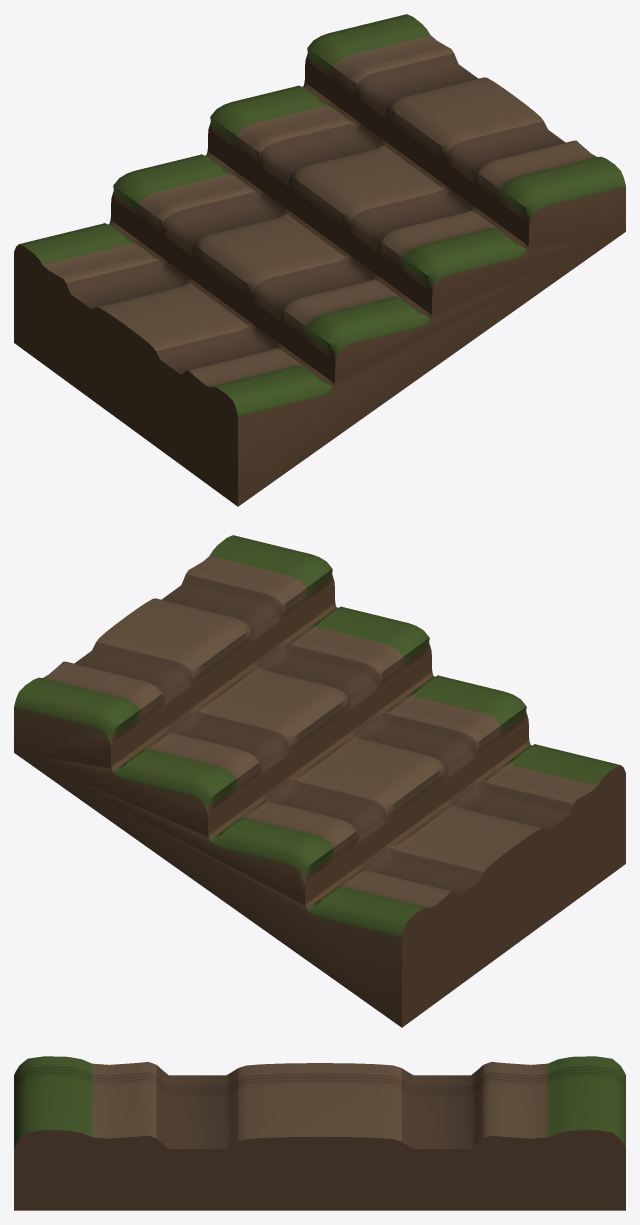
The picture shows the model from 3 angles, top to bottom: view 1: azimuth 30°, elevation 25°; view 2: azimuth 150°, elevation 25°; view 3: azimuth 270°, elevation 25°; orthographic projection. The views are drawn at different scales.
Parts seen in each view (by area): view 1: s1o; view 2: s1o; view 3: s1o.
Boxes of the visible parts, x1,y1,x2,y2 form: s1o: [14, 14, 625, 506]; s1o: [14, 535, 625, 1027]; s1o: [14, 1056, 625, 1210].
Bounding box in the file's own units: 9 × 5.31 × 9.
